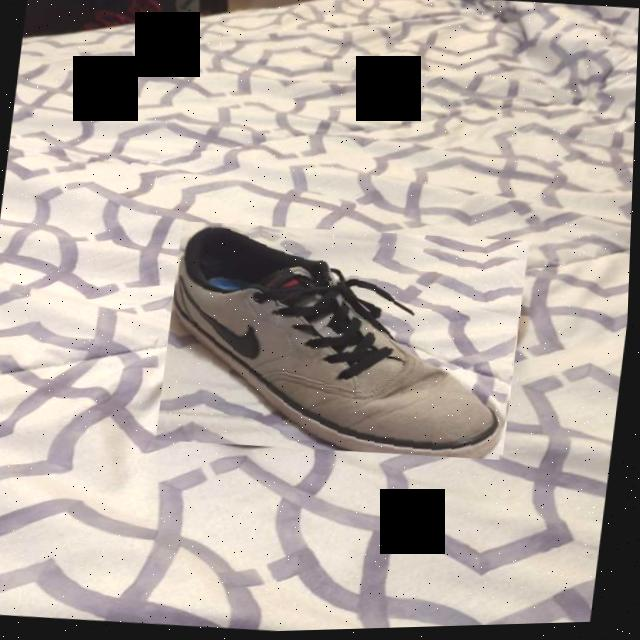shoe: (158, 213, 532, 471)
